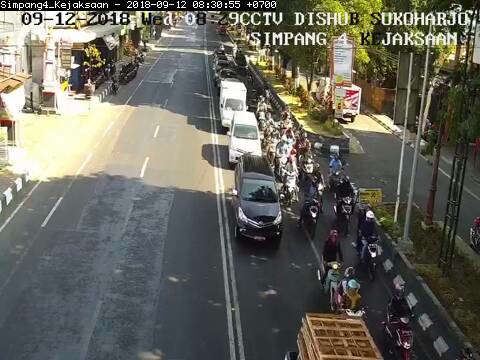motor: (385, 283, 418, 360), (355, 204, 384, 279), (321, 230, 342, 309), (334, 175, 355, 235), (303, 174, 322, 239), (341, 264, 364, 317)
